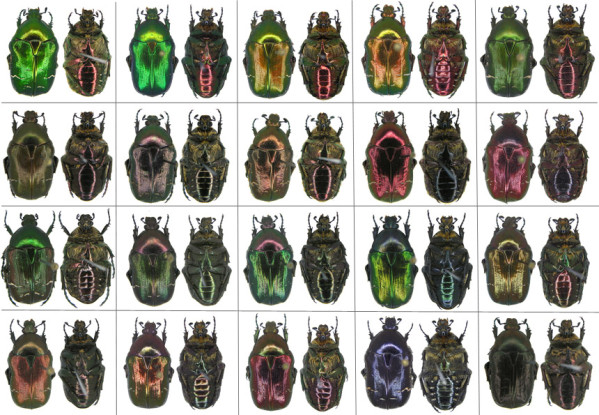Cetonia_aurata: (352, 313, 419, 414), (355, 5, 419, 103), (237, 311, 298, 412), (359, 105, 419, 205), (123, 208, 183, 308), (480, 1, 538, 103), (485, 312, 543, 414), (3, 207, 58, 312), (122, 312, 178, 414), (119, 2, 178, 98), (361, 210, 417, 310), (240, 209, 297, 307), (480, 209, 535, 309), (1, 104, 57, 202), (124, 107, 178, 203), (241, 10, 297, 101), (482, 107, 534, 204), (1, 317, 55, 410), (6, 5, 59, 96), (244, 111, 297, 202)
